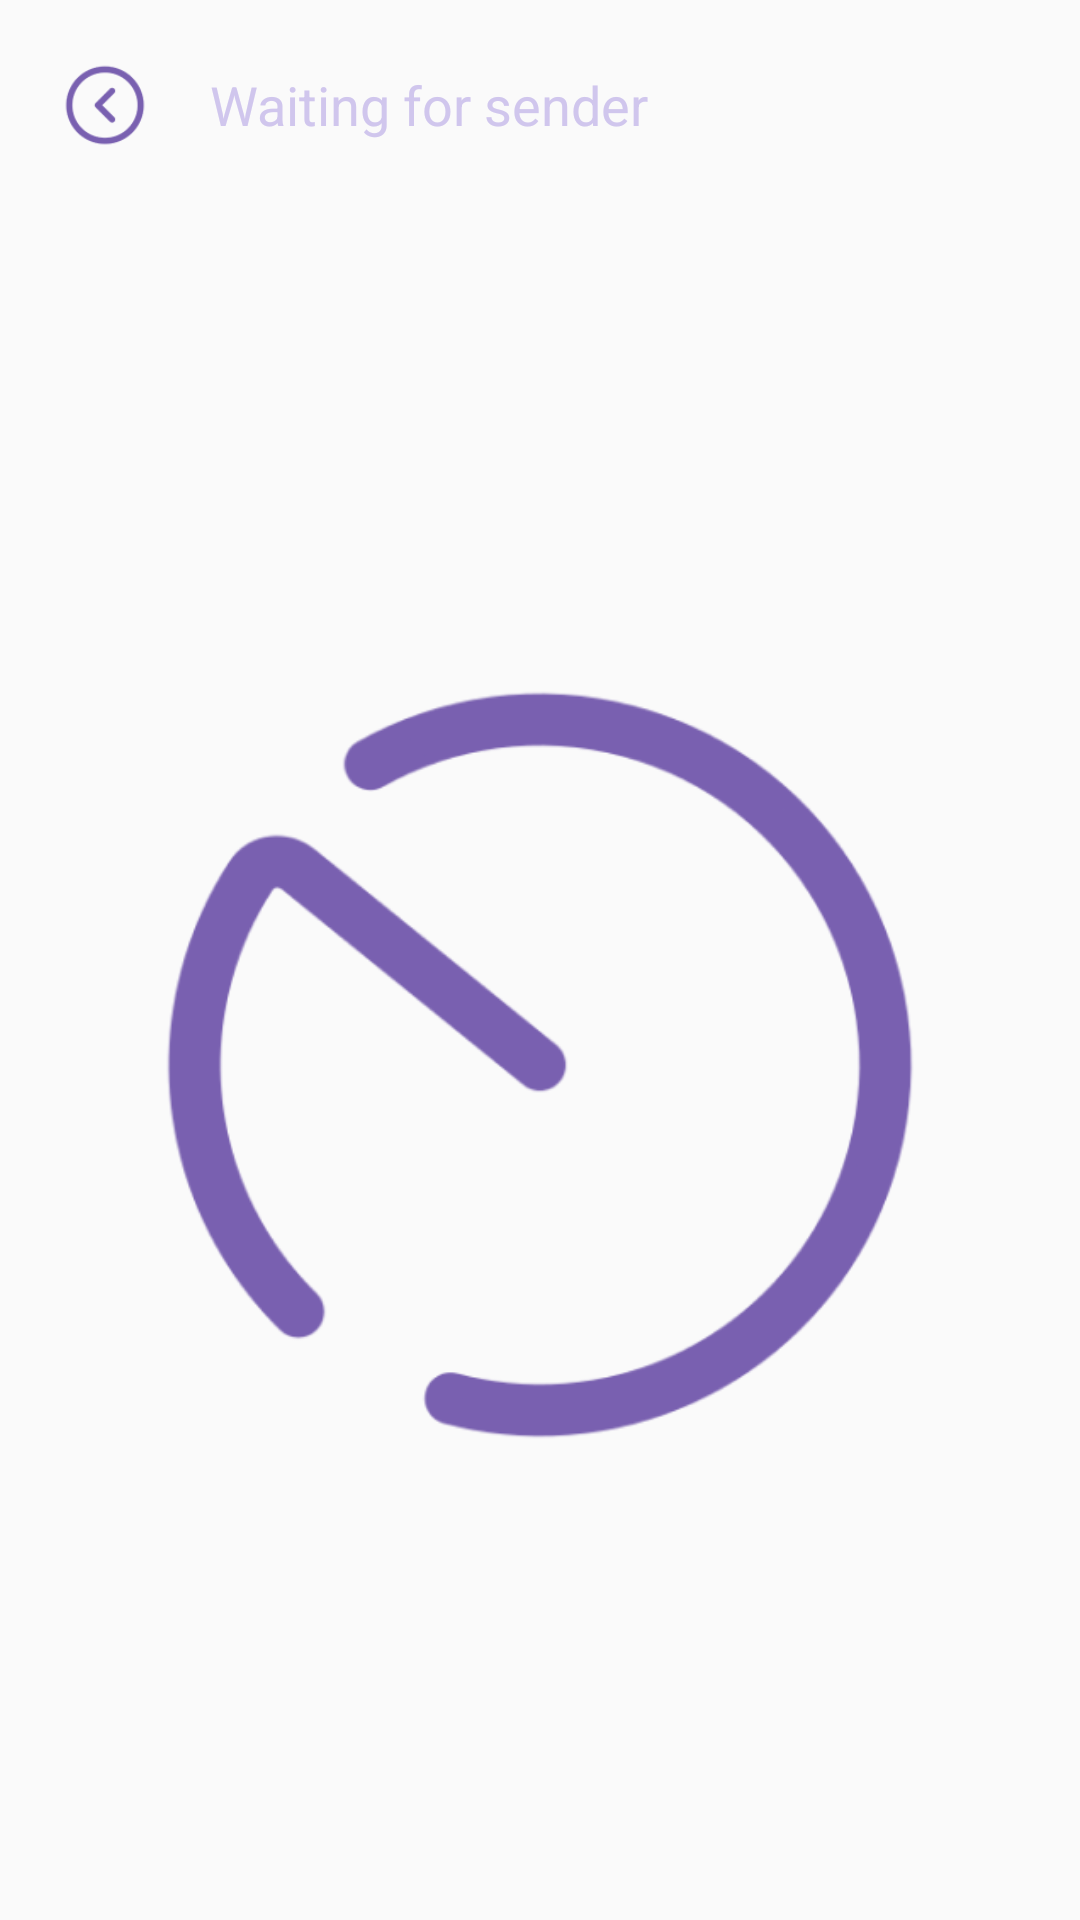

Screen size 1080w x 1920h. Icon name, then its box in pixels as [left=x1, top=y1, right=x2, bottom=y2]:
go back: [left=65, top=66, right=145, bottom=145]
